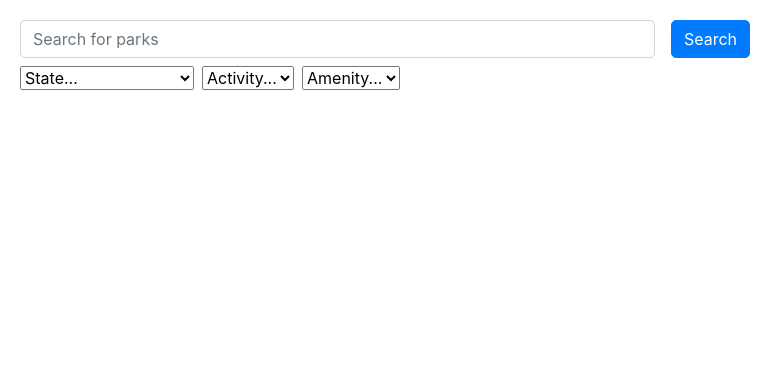
Test: Favorite button tests › renders favorite button for each park
The image size is (771, 385).
In the field with placeholder "Search for parks": {"x": 337, "y": 39} 20,20 -> 655,58, type "Test Park"
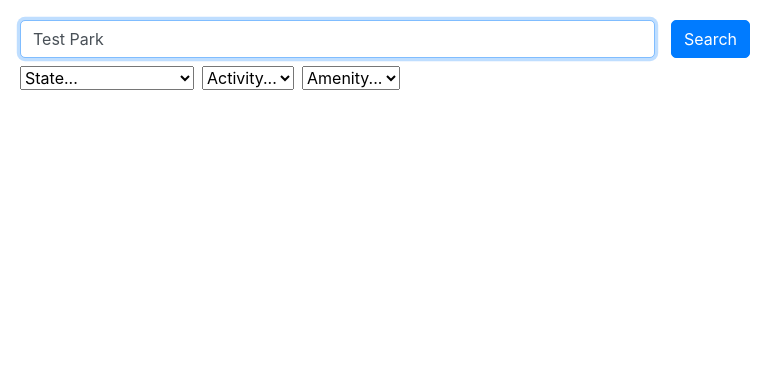
Click the button "Search": {"x": 710, "y": 39} 671,20 -> 750,58
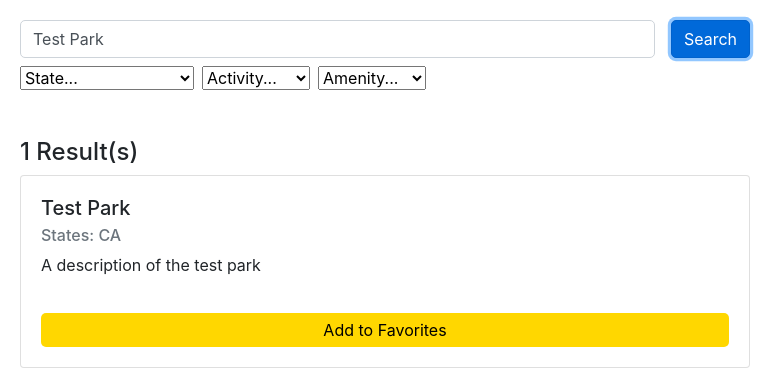
expect the heading "Test Park" is shown: met, box 41,196 -> 130,220
expect the button "Add to Favorites" is shown: met, box 41,313 -> 729,347
